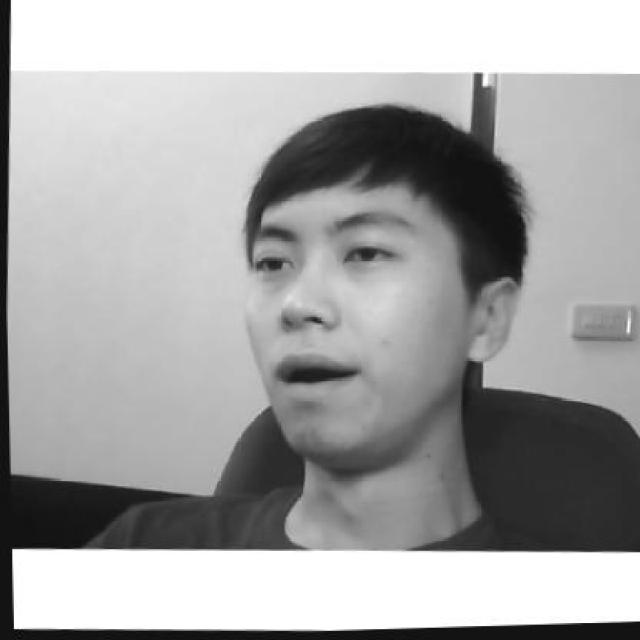inattentif: (234, 97, 523, 466)
